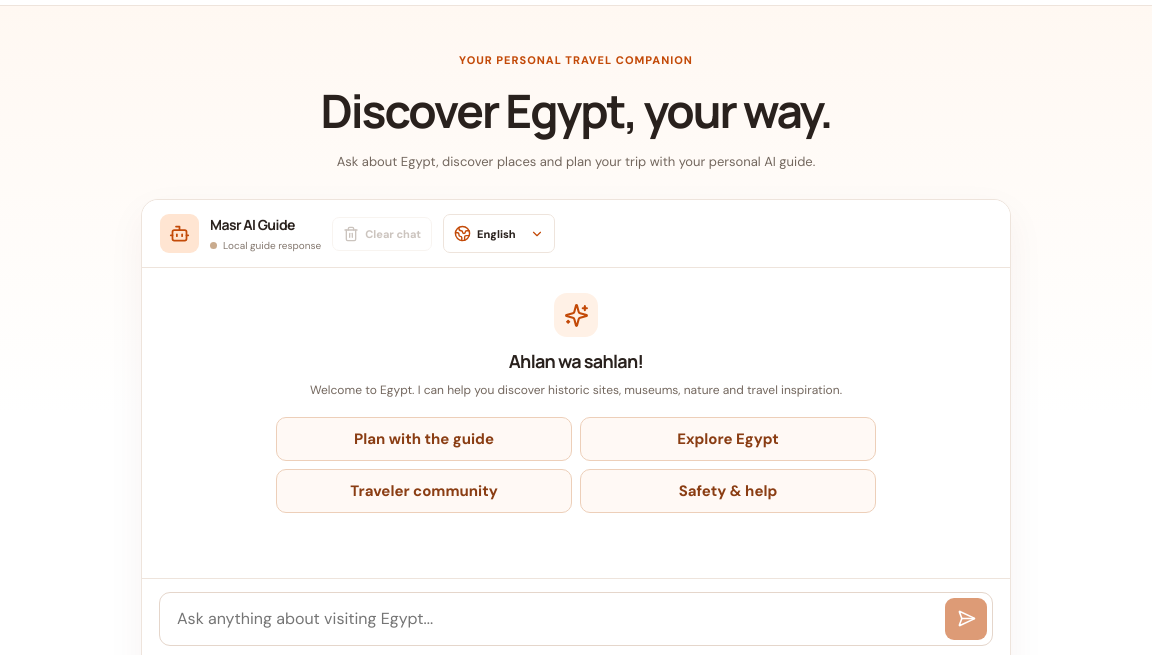
Test: GitHub release fixes › restores failed chat questions without polluting the history
Type "Tell me about Karnak" into the field named "Ask the tour guide" at (560, 619), box [175,598,945,640]
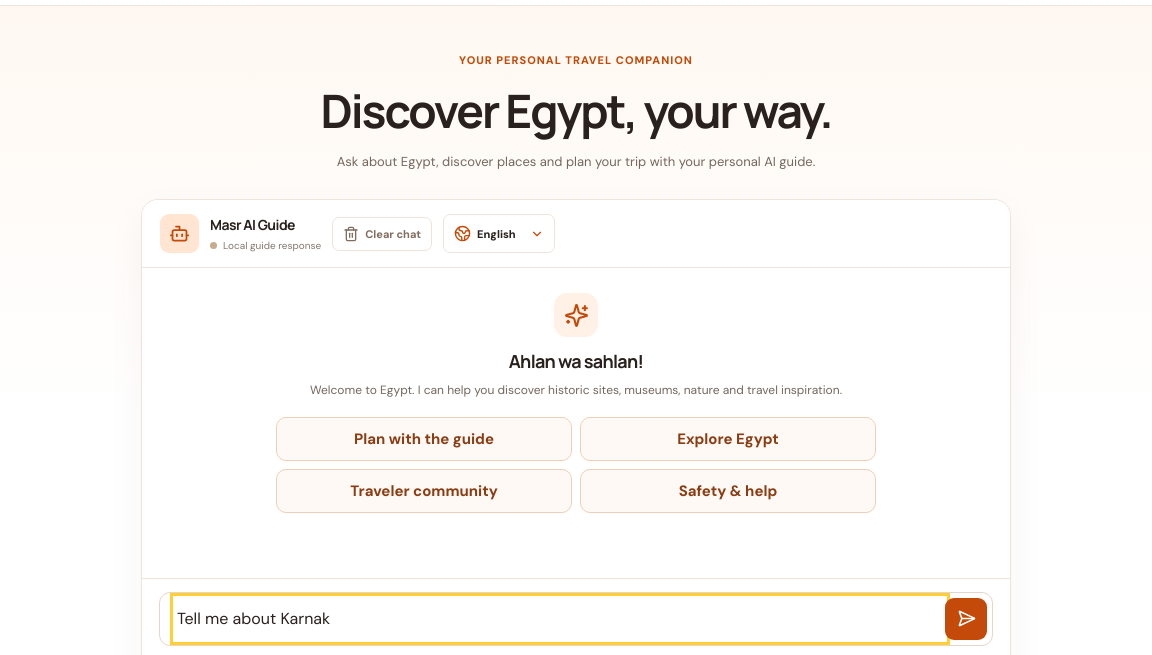
Click the button named "Send message" at (966, 619), box [945,598,987,640]
(page scrolled)
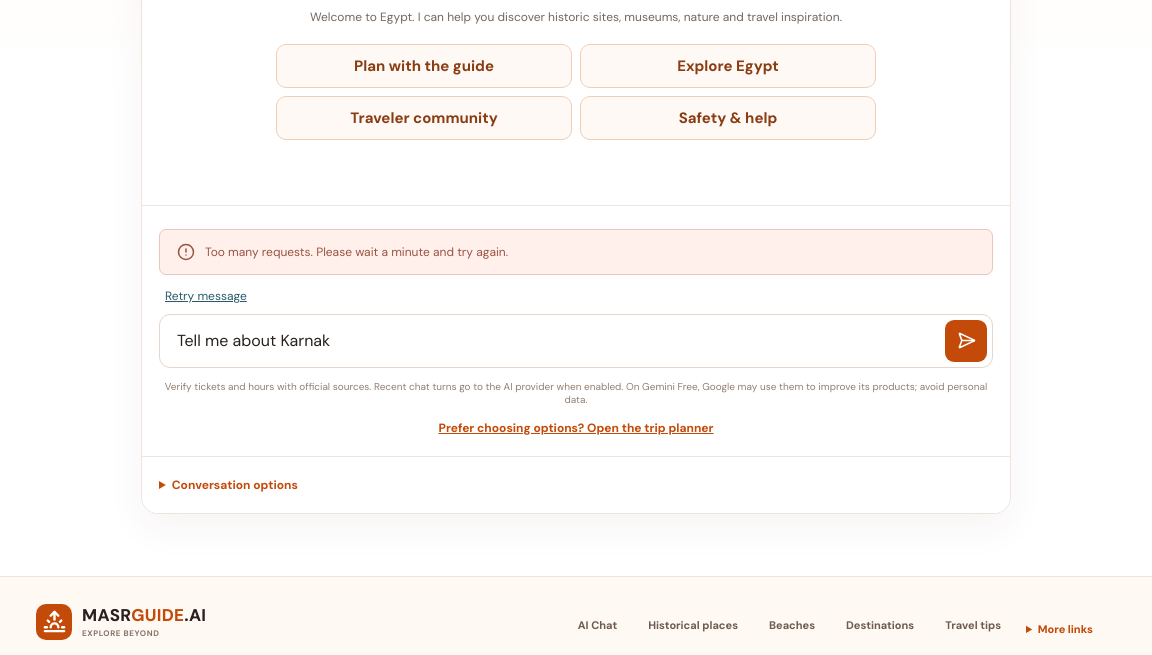
Expected: the message shows "Too many requests", [205,244,508,260]
Expected: the button "Retry message" is shown, [159,287,253,305]
